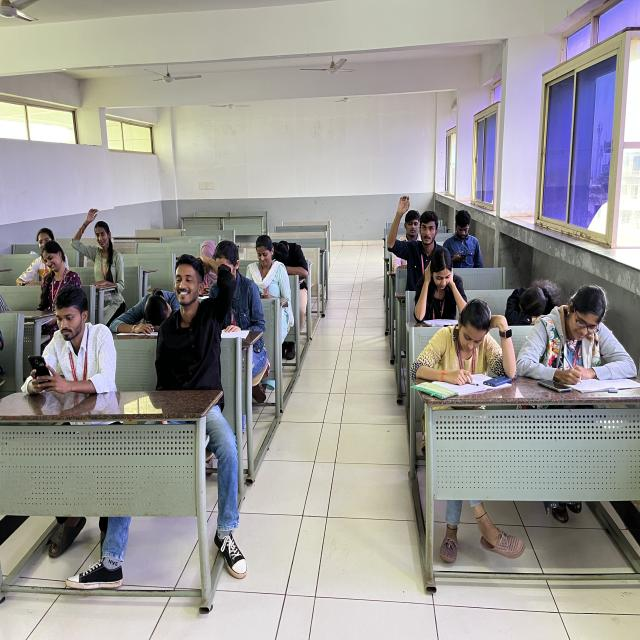Hand Rising: (74, 188, 135, 305), (386, 190, 444, 260)
Reading: (421, 287, 517, 378), (410, 247, 477, 327)
Sleeping: (499, 260, 566, 330), (111, 282, 179, 338), (271, 225, 319, 293)
Using Phone: (24, 278, 133, 394), (246, 229, 287, 309), (440, 198, 486, 267), (188, 235, 226, 296)
Writing: (546, 276, 640, 386)
